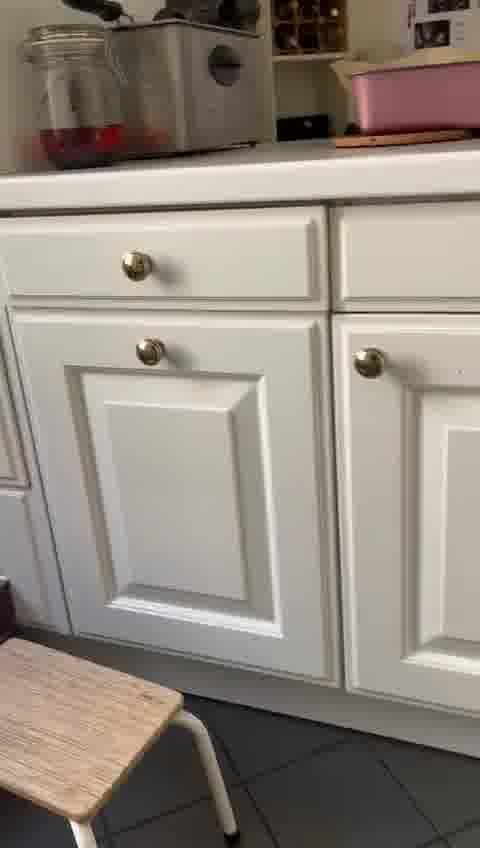cabinet_door: (12, 322, 335, 682), (339, 324, 480, 700), (3, 208, 325, 304)
handle: (125, 331, 171, 374), (111, 244, 159, 285), (350, 339, 391, 383)
